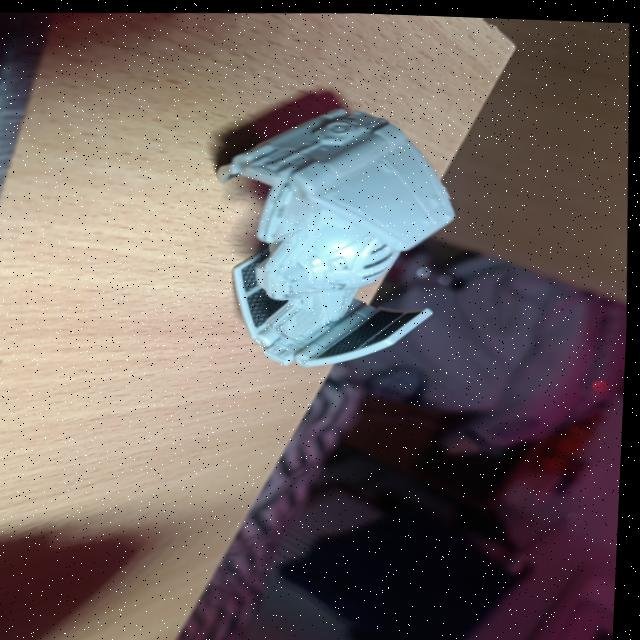column JBL: (312, 304, 316, 310)
tie fighter: (218, 105, 455, 363)
